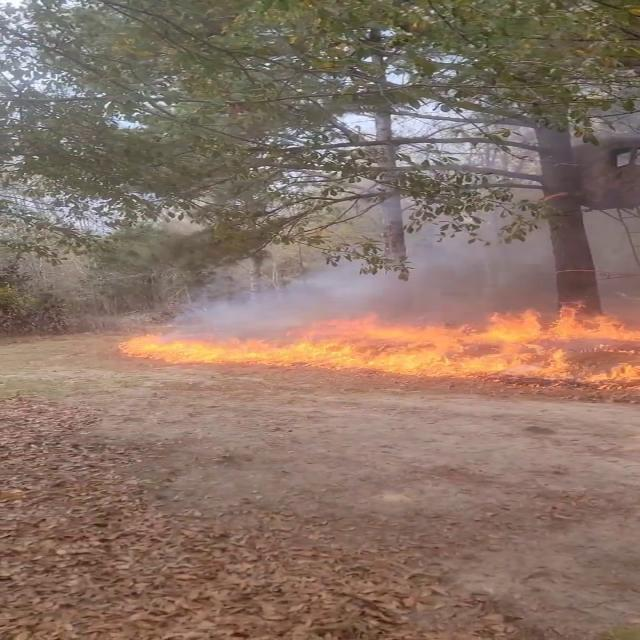Fire: (120, 305, 638, 377)
Smoke: (226, 202, 640, 323)
